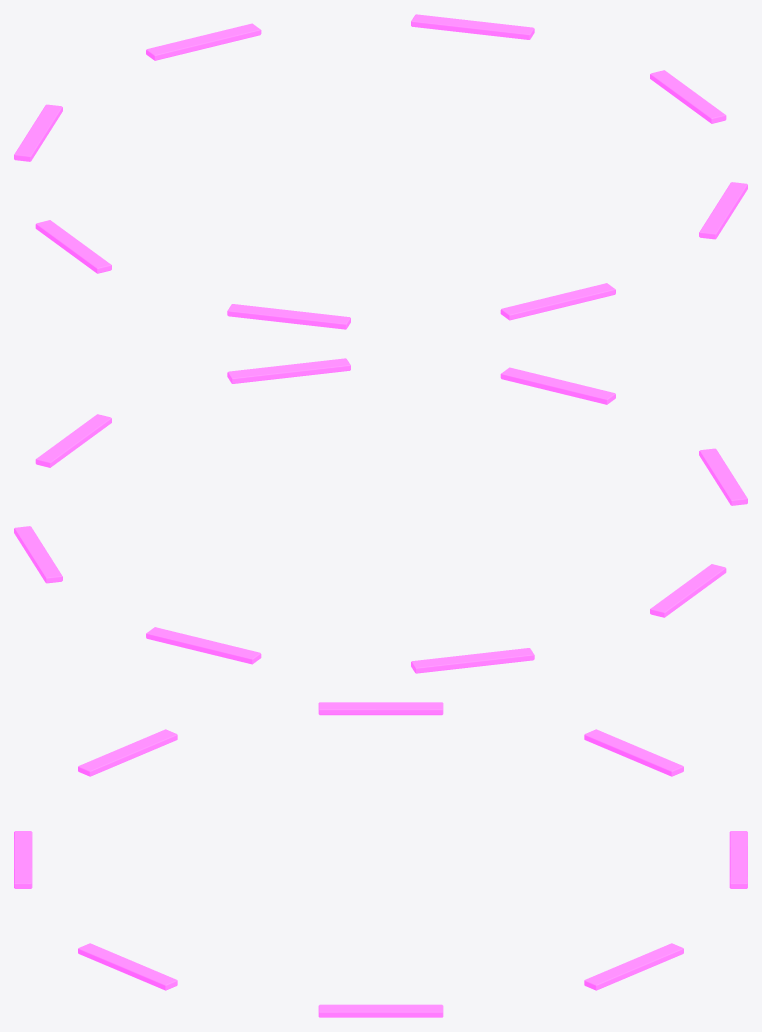
Rendered from grow_lights.glb.
3 views of the same model, one above another, from view 1: azimuth 30°, elevation 25°; view 2: azimuth 150°, elevation 25°; view 3: azimuth 270°, elevation 25° (orthographic).
Visible parts, largest first — view 1: grow_lights.001; view 2: grow_lights.001; view 3: grow_lights.001.
Part boxes in pixels (x1,y1,x2,y2): grow_lights.001: (14, 14, 747, 329); grow_lights.001: (14, 358, 747, 673); grow_lights.001: (14, 702, 747, 1017).
Bounding box in the file's own units: 12.92 × 0.12 × 12.92.
